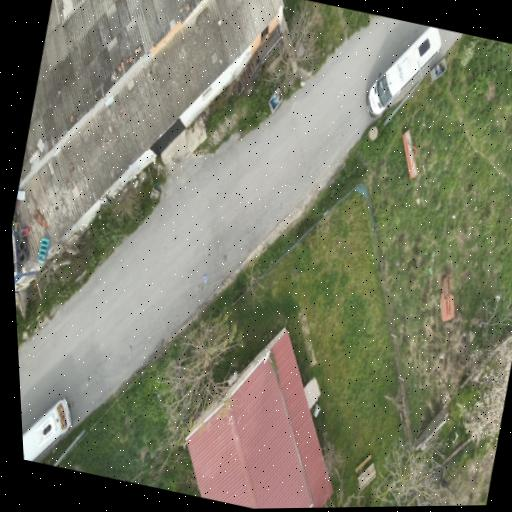bus: (366, 27, 441, 117), (23, 399, 71, 461)
